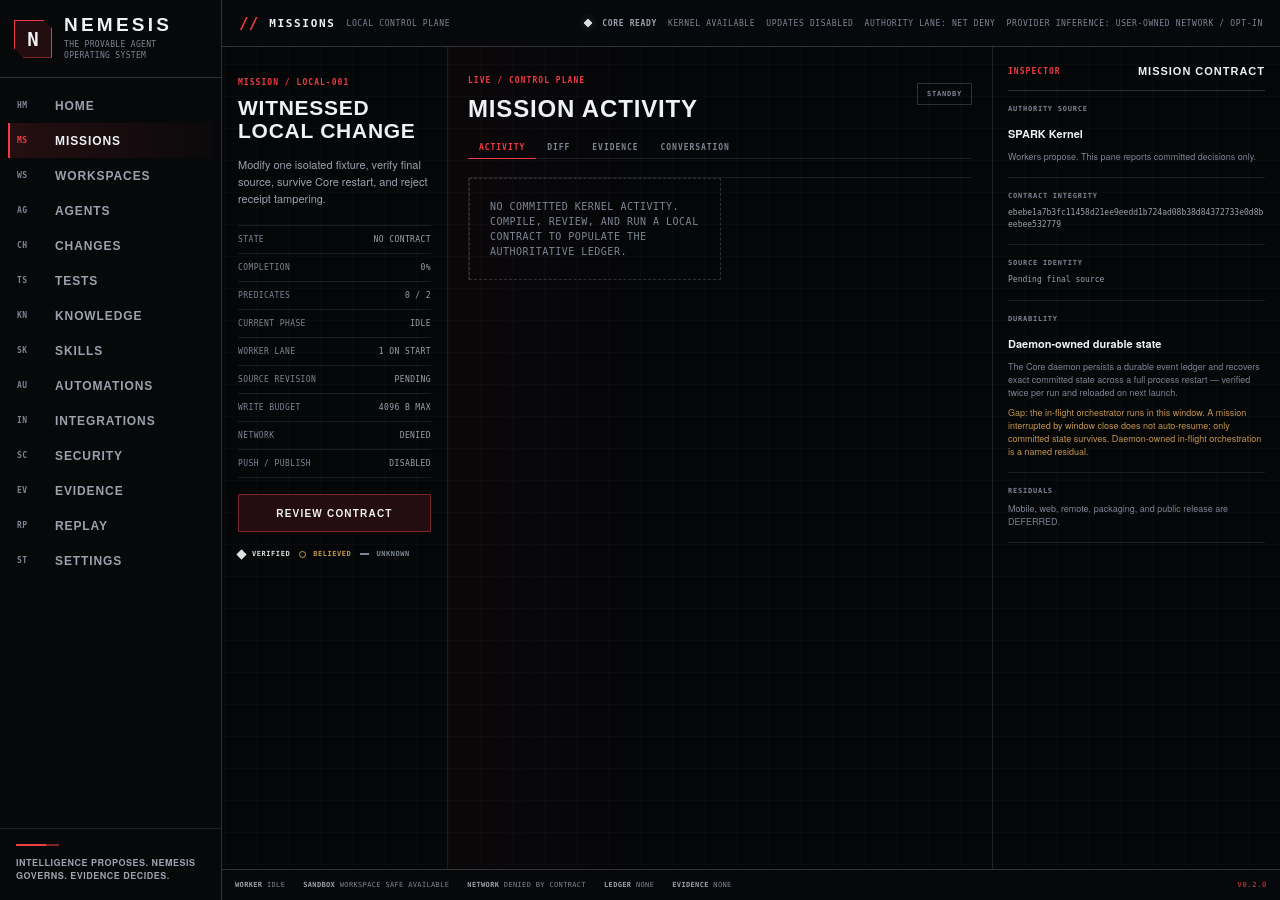
Test: NEMESIS Desktop production surface › loads current authoritative replay and labels model reruns comparative
Click the button "RP Replay" at [110, 526], box [8,508,213,543]
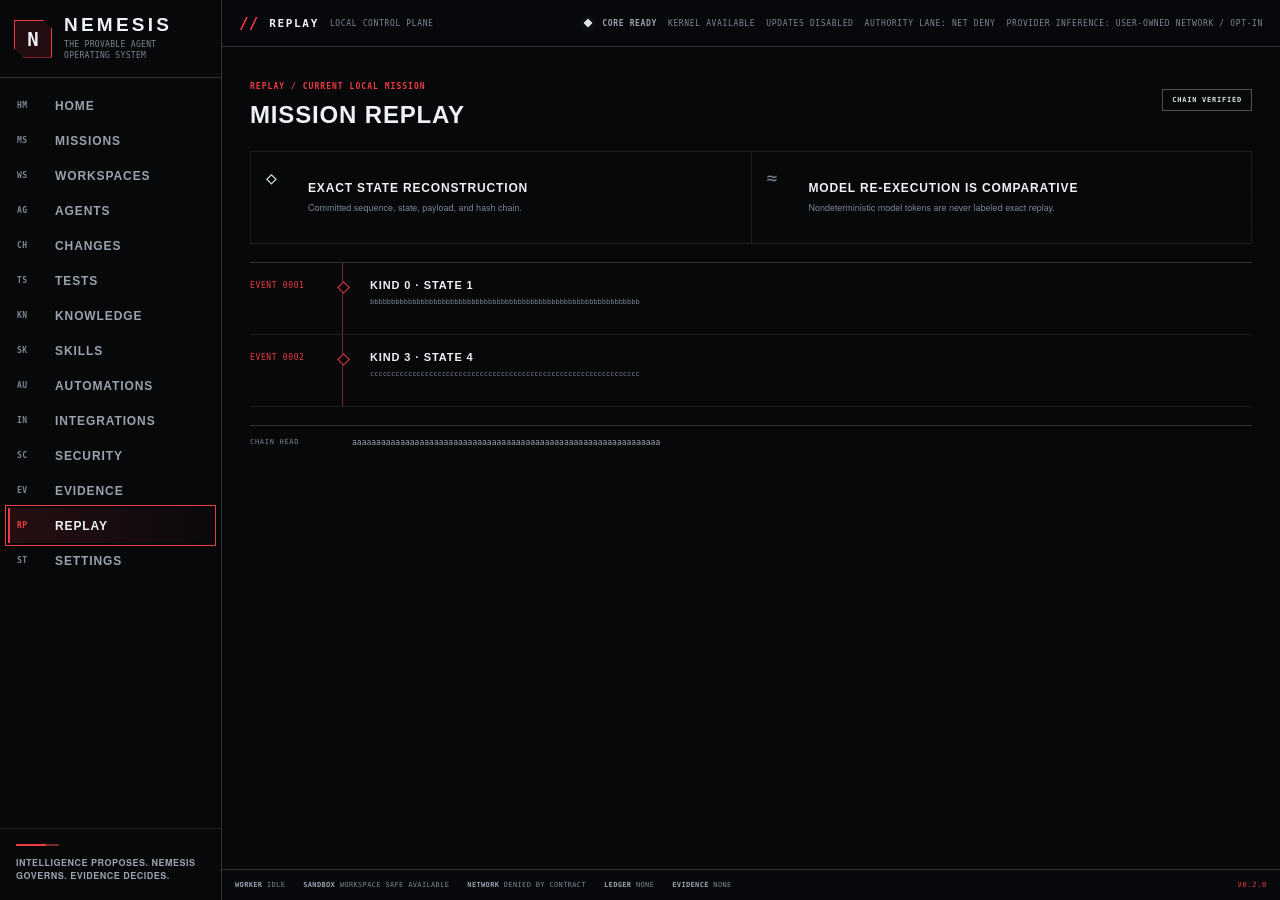
Result: the text "Exact state reconstruction" is shown at [308,181,528,195]
Result: the text "Model re-execution is comparative" is shown at [808,181,1078,195]
Result: the text "EVENT 0002" is shown at [250,353,305,362]
